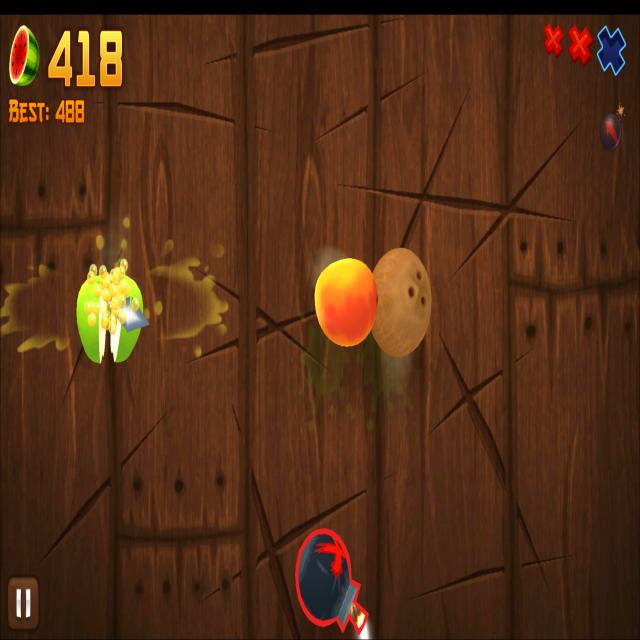bomb: (295, 526, 370, 636)
fruit: (371, 248, 431, 354), (314, 257, 376, 347)
